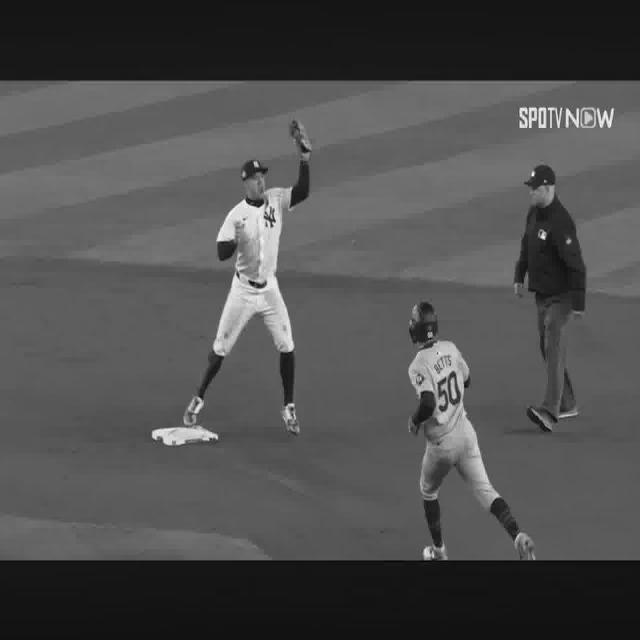base: (151, 425, 219, 447)
baseball_glove: (290, 120, 312, 160)
shoe: (526, 405, 558, 432), (182, 395, 204, 427), (514, 532, 536, 562), (281, 403, 300, 437), (422, 543, 448, 562), (554, 402, 582, 418)
